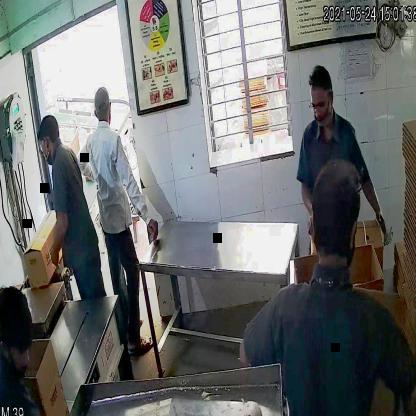goggles: (308, 96, 333, 117)
